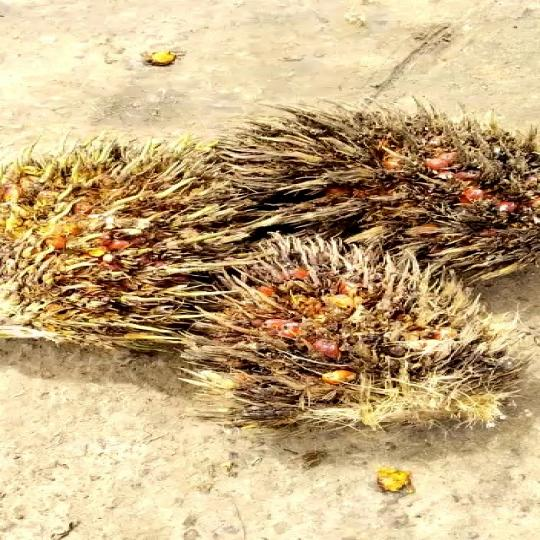terlalu masak: (144, 230, 540, 432), (0, 138, 258, 349), (212, 115, 540, 278)
